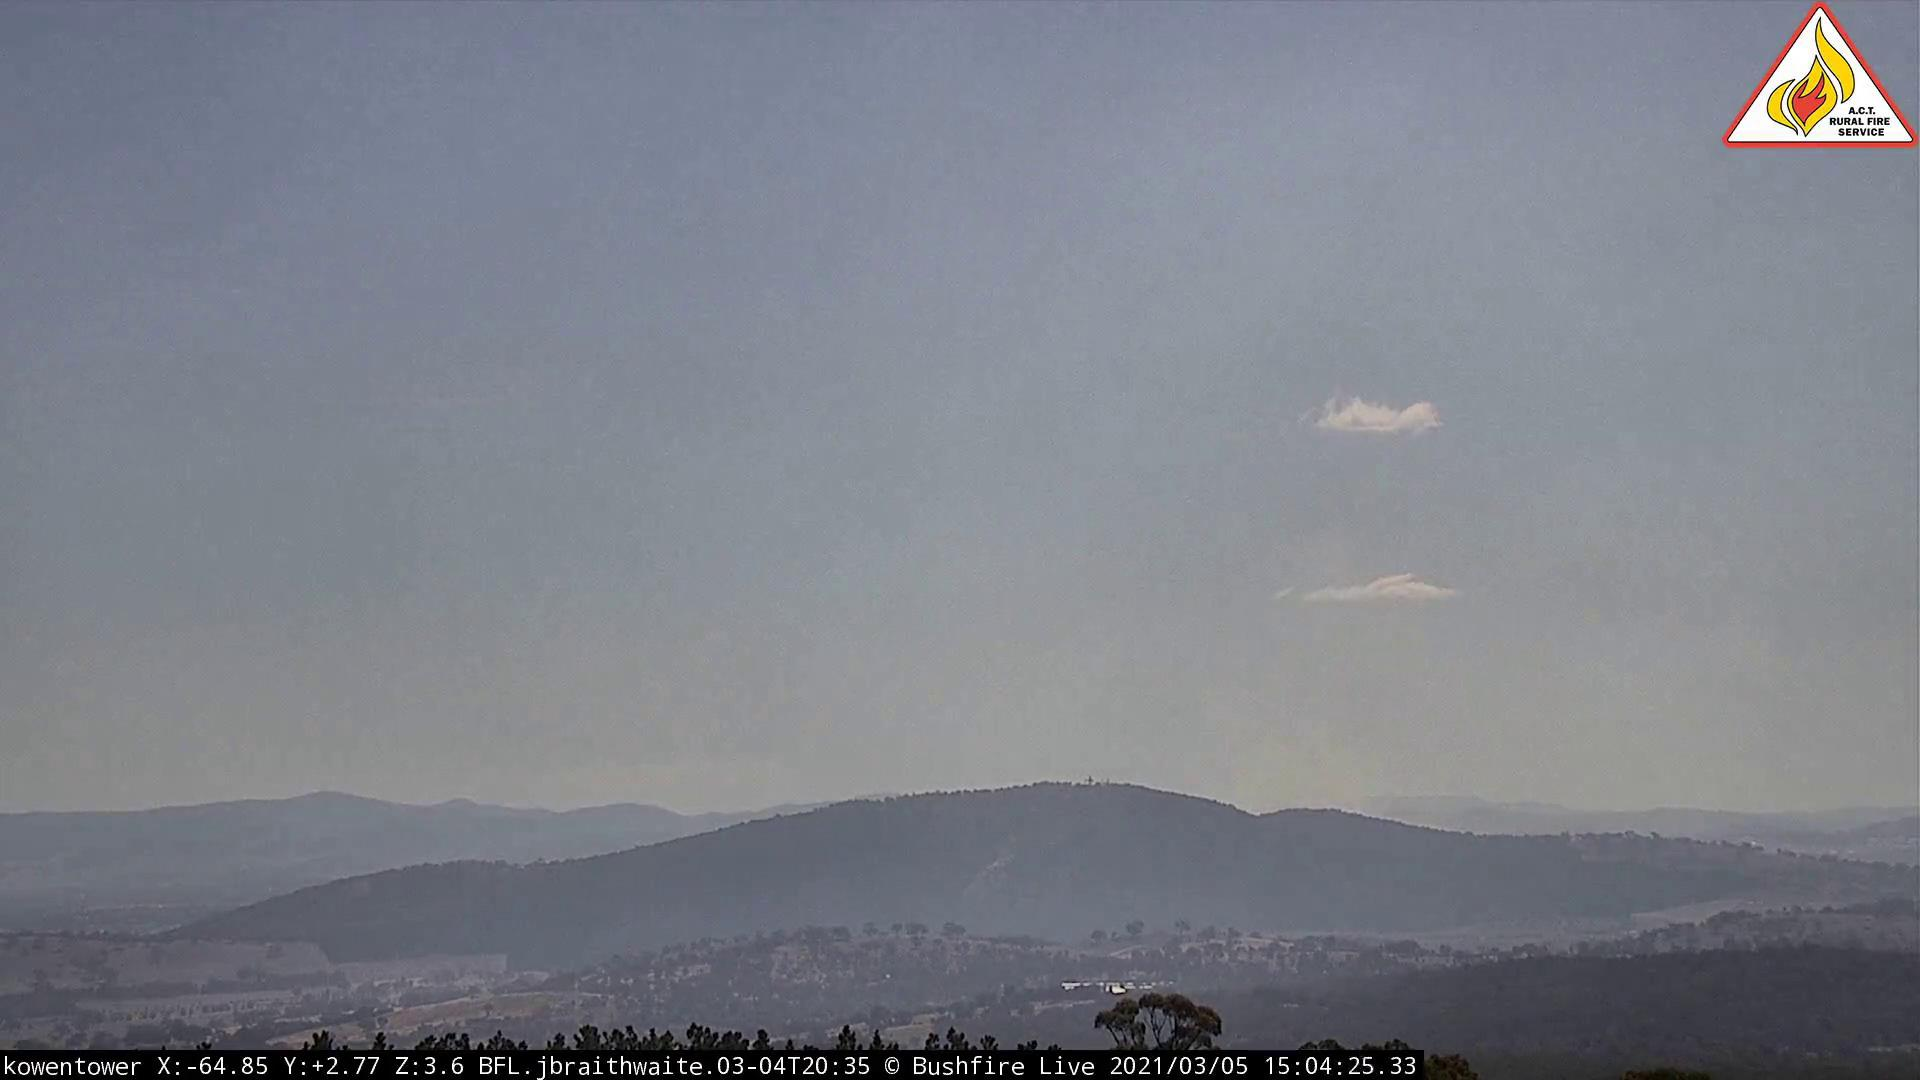Smoke: (1184, 539, 1811, 825)
